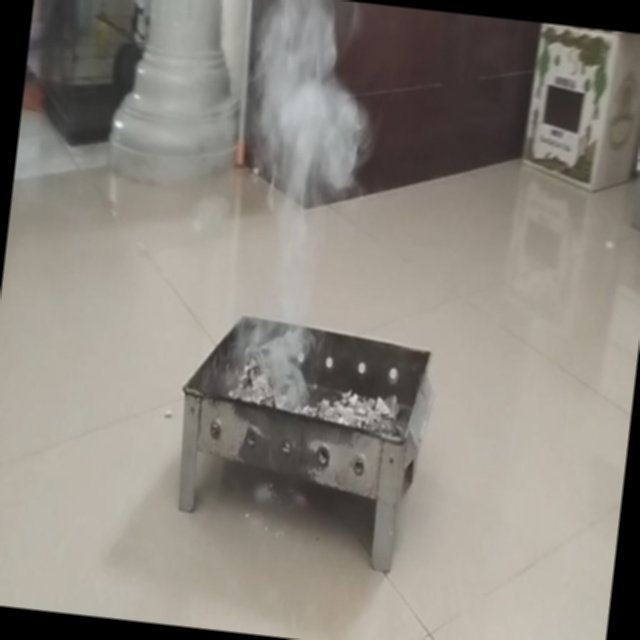smoke: (216, 0, 388, 396)
